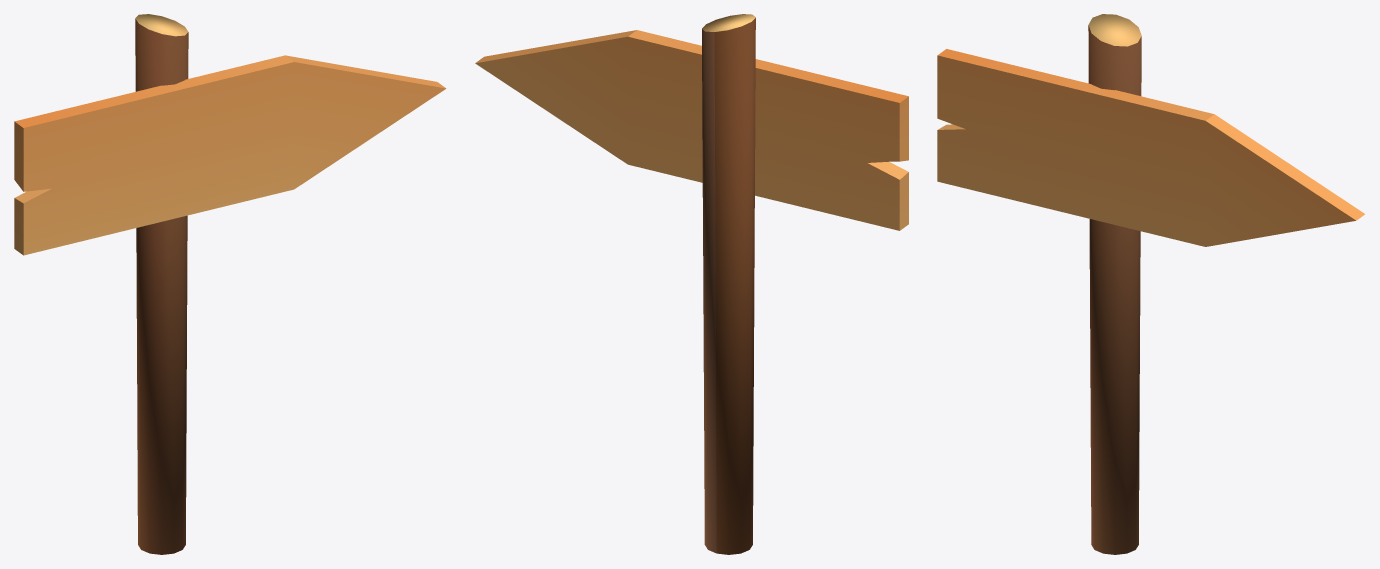
Rendered from sign.fbx.
3 views of the same model, side by side, from view 1: azimuth 30°, elevation 25°; view 2: azimuth 150°, elevation 25°; view 3: azimuth 330°, elevation 25° (orthographic).
Visible parts, largest first — view 1: sing; view 2: sing; view 3: sing.
Part boxes in pixels (x1,y1,x2,y2): sing: (14,14,446,554); sing: (475,14,908,554); sing: (937,14,1364,554).
Bounding box in the file's own units: 189 × 224 × 26.45.
